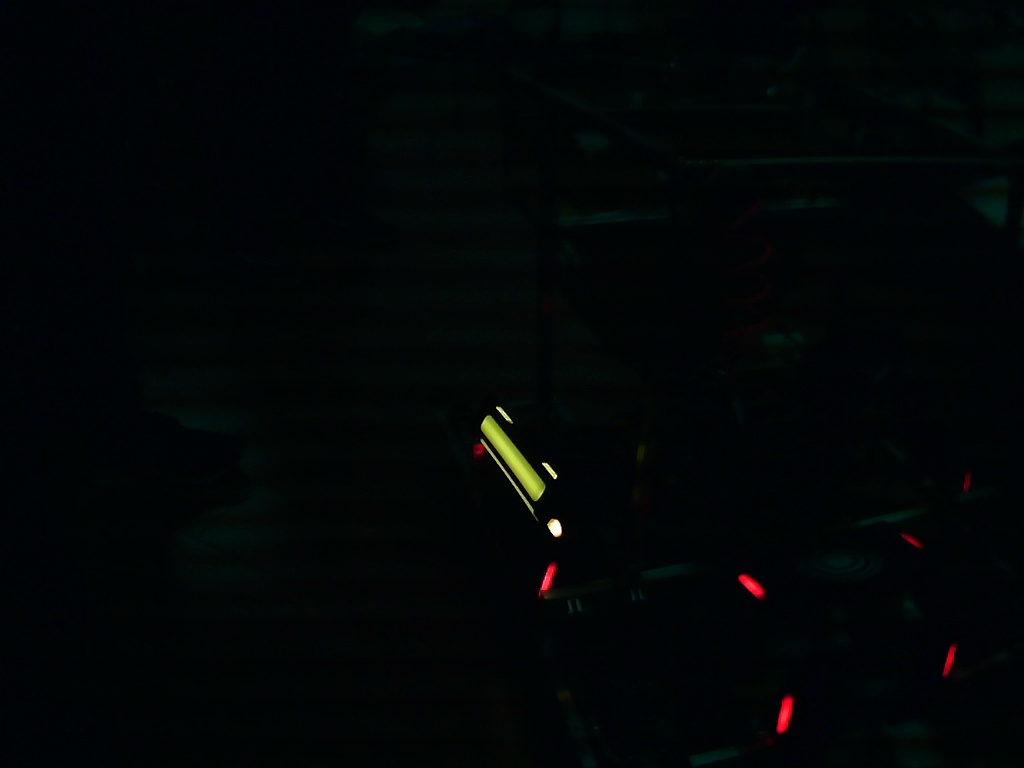lamp: (776, 692, 796, 737), (944, 640, 957, 682)
